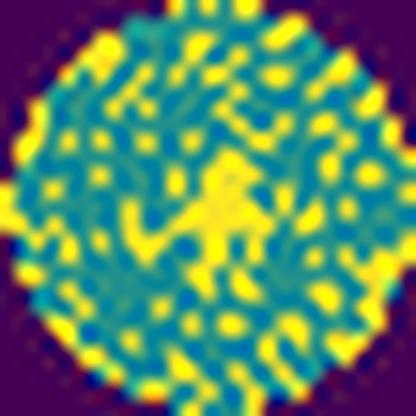Center: (119, 145, 280, 306)
